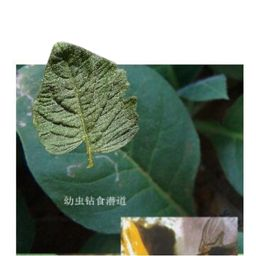liriomyza: (15, 70, 36, 129), (95, 154, 119, 182), (65, 162, 80, 177)
